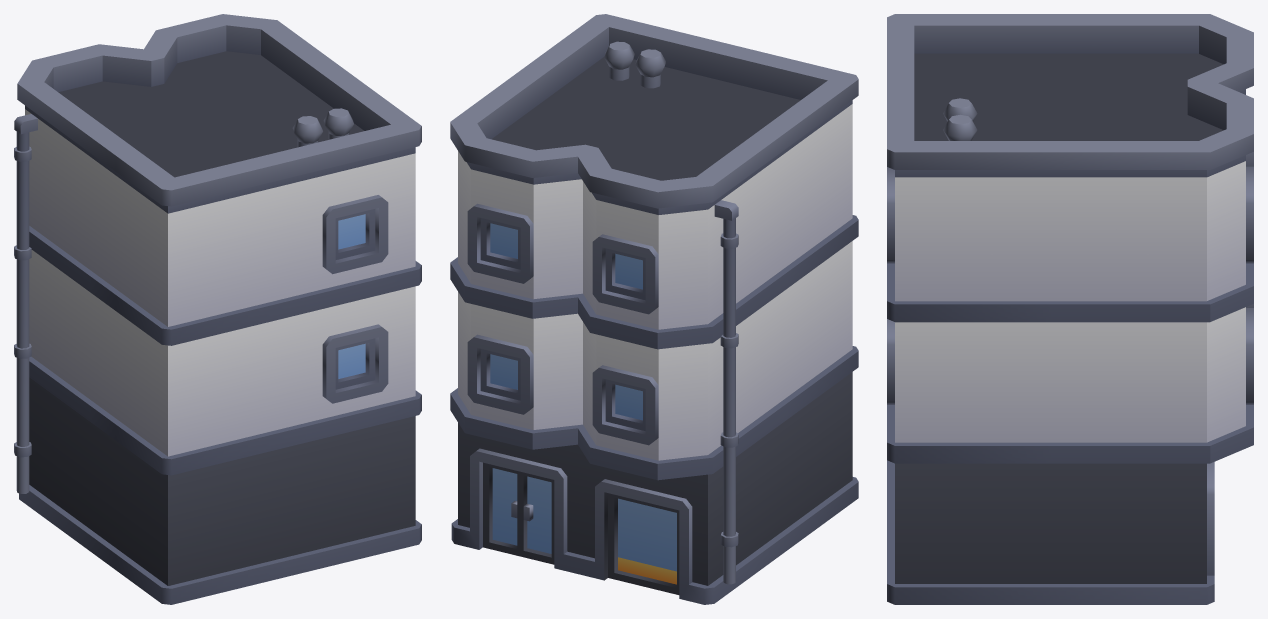
Rendered from city_0.fbx.
3 renders of one model, left to right at view 1: azimuth 30°, elevation 25°; view 2: azimuth 150°, elevation 25°; view 3: azimuth 270°, elevation 25°, orthographic. The views are drawn at different scales.
Visible parts, largest first — view 1: city_0; view 2: city_0; view 3: city_0.
Boxes of the visible parts, box(x1,y1,x2,y2) form: city_0: box(14, 14, 421, 604); city_0: box(450, 14, 858, 604); city_0: box(887, 14, 1253, 604).
Bounding box in the file's own units: 0.8836 × 1.29 × 0.94.
1 material, 1 textured.
